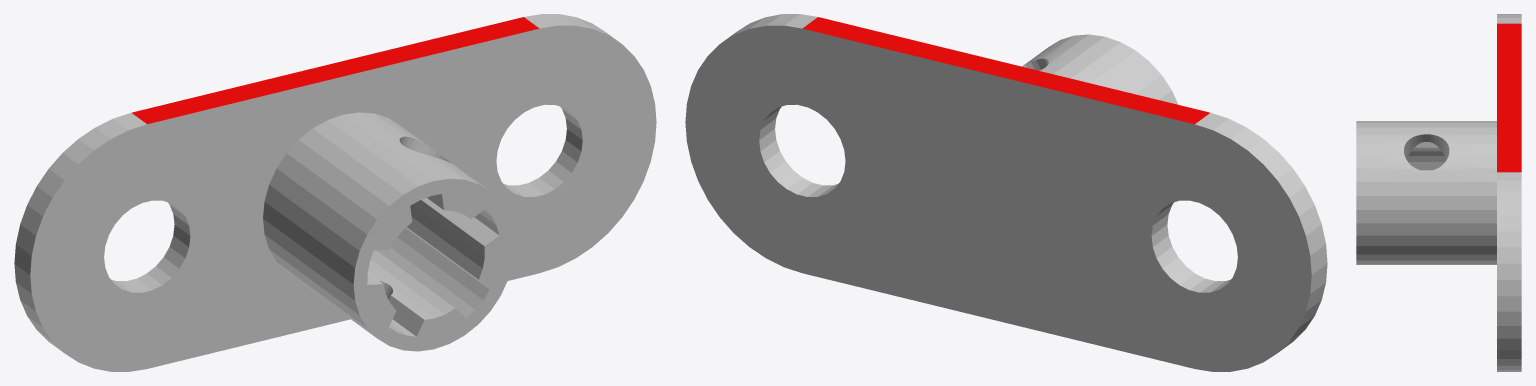
The model's file is Encaixe_caixa_stp_8.obj.
The picture shows the model from 3 angles, left to right: view 1: azimuth 30°, elevation 25°; view 2: azimuth 150°, elevation 25°; view 3: azimuth 270°, elevation 25°; orthographic projection. The views are drawn at different scales.
Visible parts, largest first — view 1: Object1; view 2: Object1; view 3: Object1.
Boxes of the visible parts, box(x1,y1,x2,y2) form: Object1: box(14, 14, 656, 371); Object1: box(685, 14, 1327, 371); Object1: box(1356, 14, 1521, 371).
Size of the model in its own units: 79.79 by 29.79 by 23.5.
